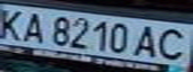0: (109, 20, 133, 55)
1: (87, 18, 112, 52)
2: (66, 15, 93, 51)
8: (45, 14, 72, 47)
A: (18, 10, 51, 44), (133, 22, 163, 58)
C: (151, 26, 193, 61)
K: (0, 6, 30, 42)
